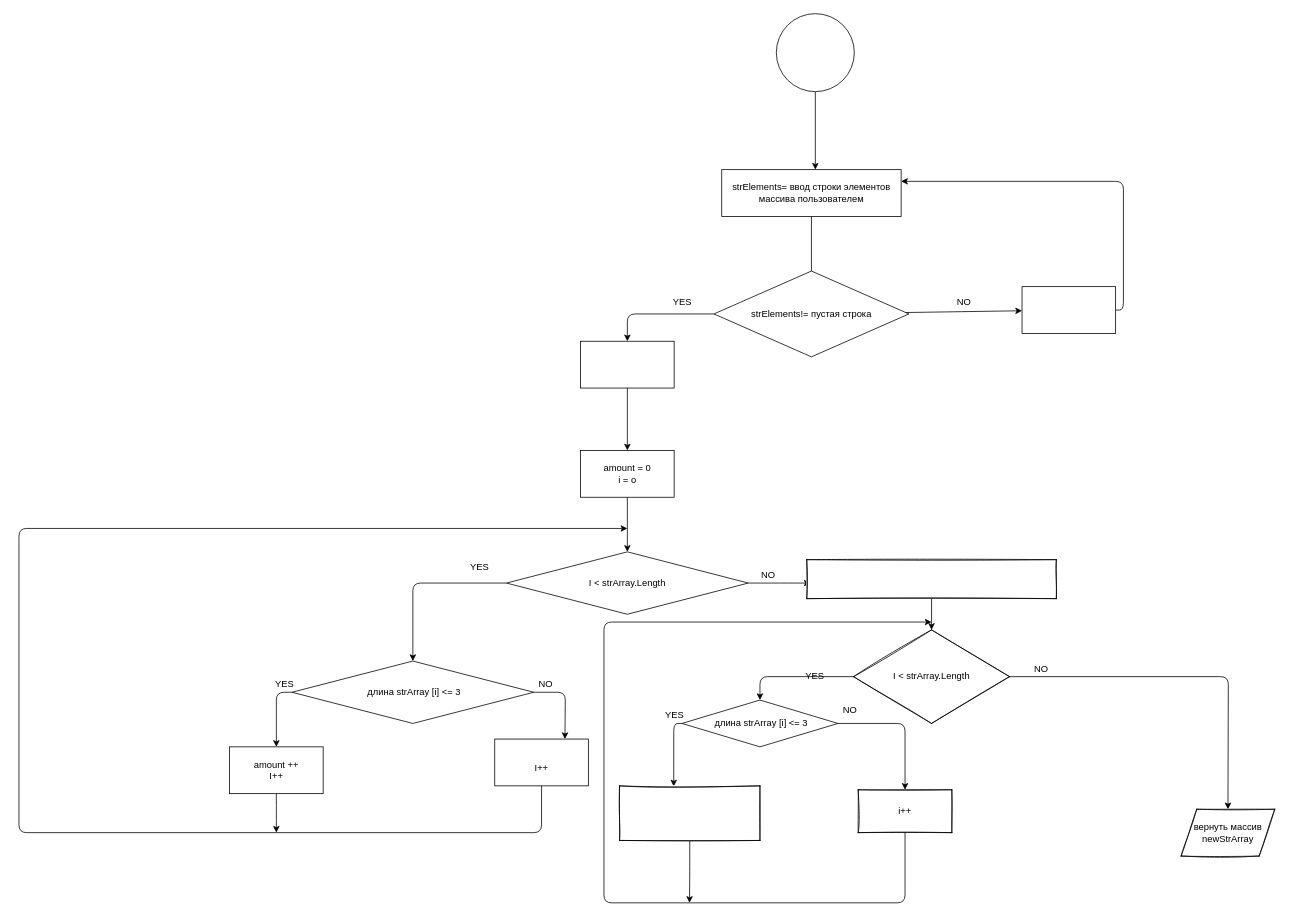
The diagram is 1289 pixels wide and 923 high, and some of its shapes have lost their labels. The shapes that lost their labels are listed below. From the top down, each one's box as (x1, y1, x2, y2) in pixels, then its label:
(776, 13, 854, 92): Начало
(1021, 286, 1116, 333): сообщение об ошибке
(580, 340, 674, 388): strArray[] = разбить строку на массив строк, разделители : " " , ","
(806, 559, 1056, 599): создать новый строковой массив newStrArray c количеством элементов ammount j= 0
(619, 785, 760, 840): newStrArray[j] = newStrArray [i] j++ i++
